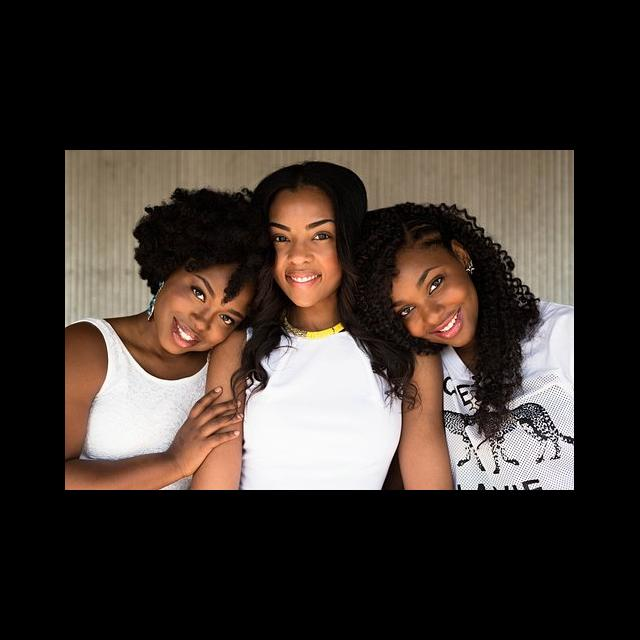female: (368, 168, 516, 363), (133, 191, 277, 362), (244, 159, 376, 313)
